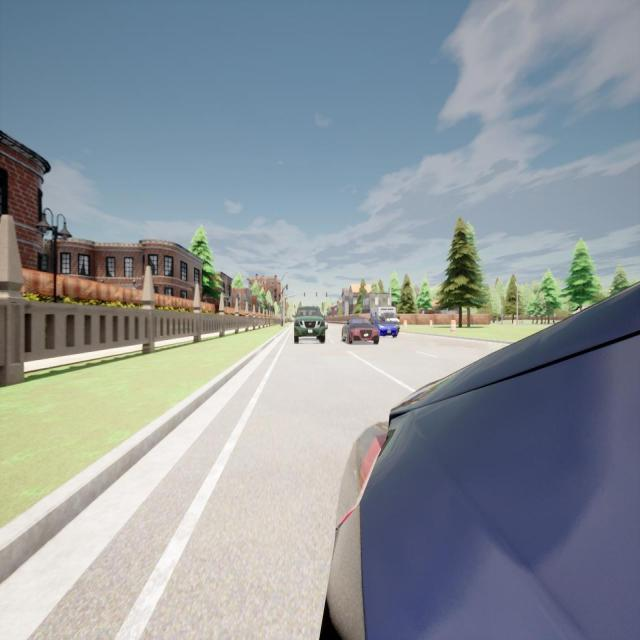Vehicle: (327, 283, 639, 637), (292, 306, 328, 344), (342, 317, 379, 345), (370, 316, 398, 338), (370, 307, 400, 321)
traffic_light: (286, 284, 288, 290), (304, 292, 306, 297), (326, 292, 327, 298), (316, 292, 317, 297)
